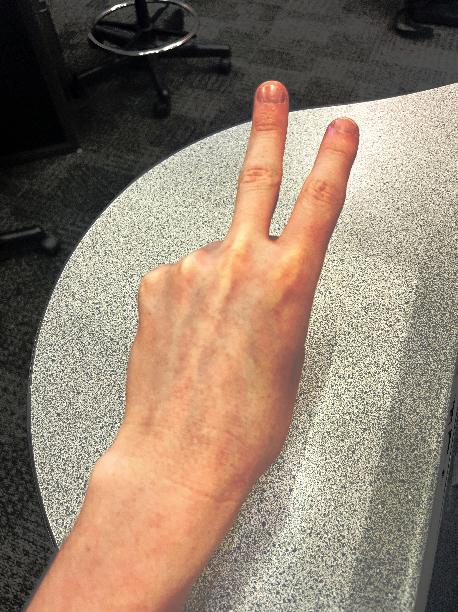Scissors: (81, 49, 377, 513)
